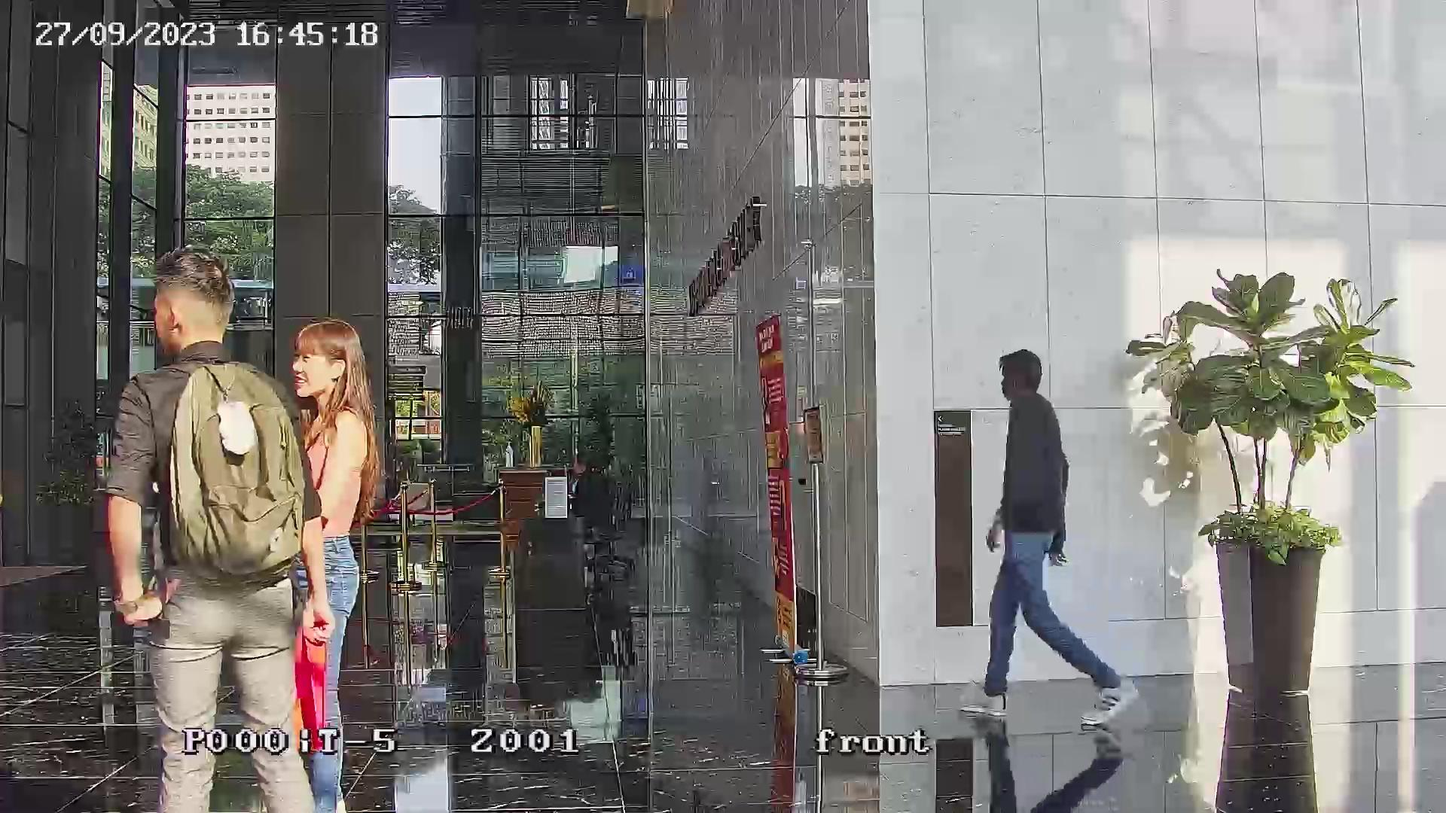person: (102, 248, 331, 808), (975, 350, 1128, 729), (289, 316, 384, 805), (569, 452, 610, 526)
